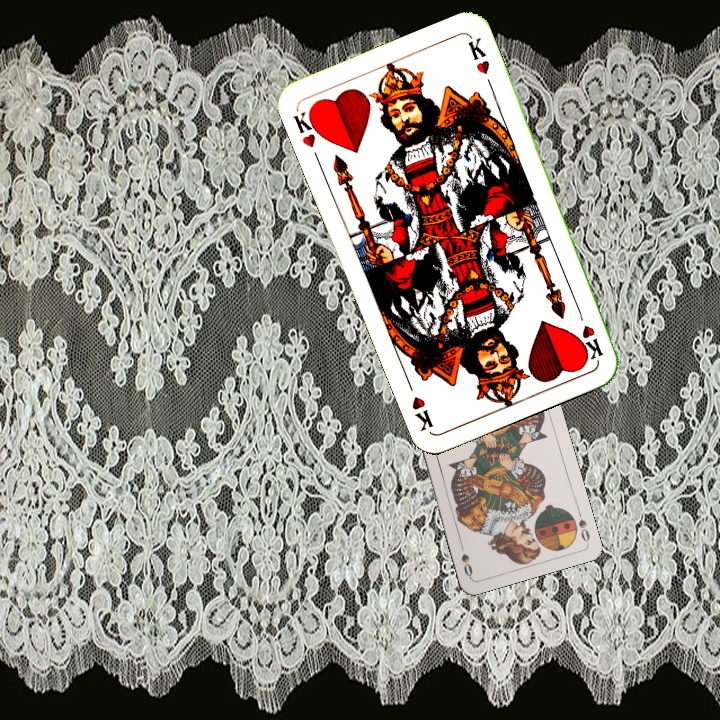HK: (573, 304, 606, 363), (289, 103, 325, 150)
SO: (573, 505, 592, 545)
